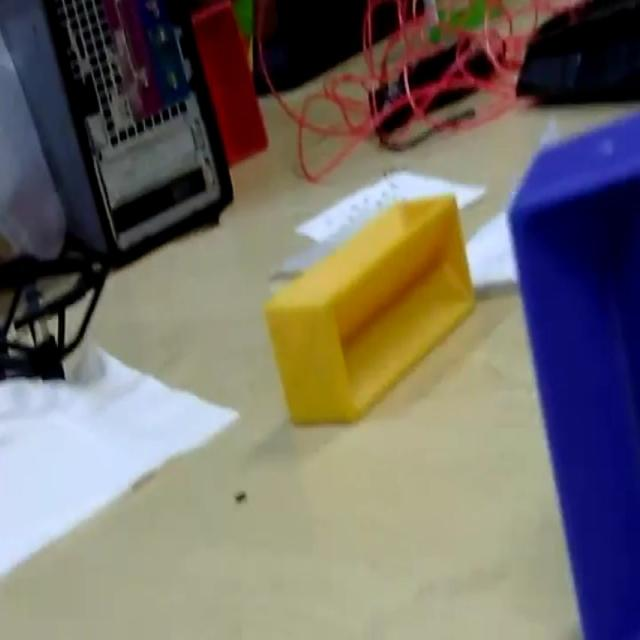blue_block: (506, 108, 638, 635)
red_block: (189, 1, 269, 167)
yellow_block: (263, 190, 476, 426)
